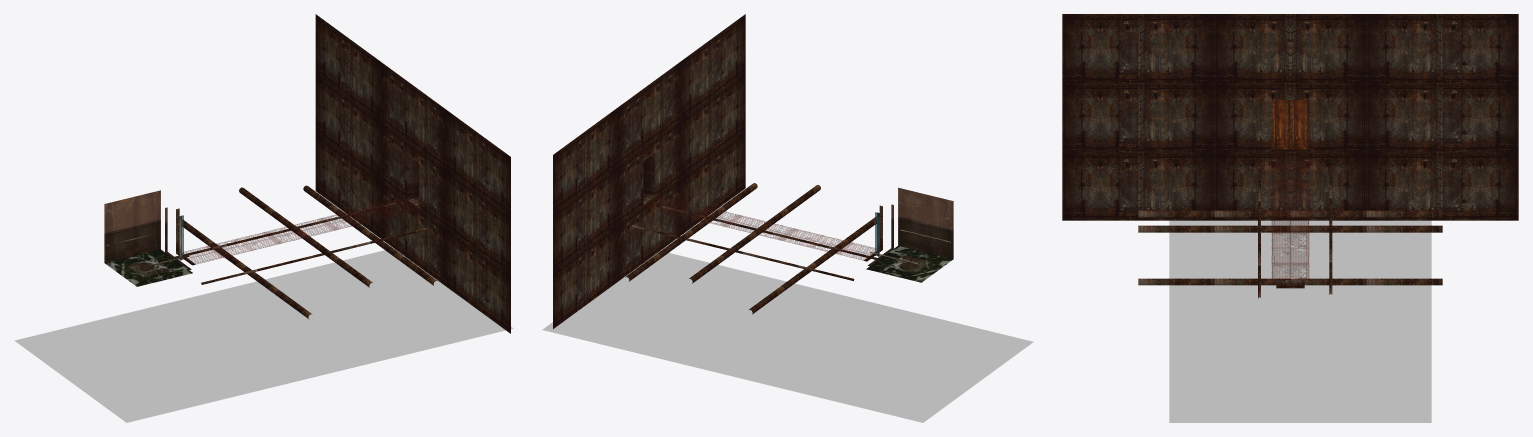
The picture shows the model from 3 angles, left to right: view 1: azimuth 30°, elevation 25°; view 2: azimuth 150°, elevation 25°; view 3: azimuth 270°, elevation 25°; orthographic projection. The views are drawn at different scales.
Parts seen in each view (by area): view 1: DR1R_HID_m0, NL_BACK0_m5, NL_BACK_m6, NL_BACK0_m0, NL_BACK0_m4, NL_BACK0_m3, NL_BACK0_m6, NL_BACK_m0, NL_BACK2_m0, NL_m0, NL_BACK2_m1, NL_BACK_m4 (+5 smaller); view 2: DR1R_HID_m0, NL_BACK0_m5, NL_BACK_m6, NL_BACK2_m1, NL_BACK0_m0, NL_BACK0_m3, NL_BACK0_m4, NL_BACK0_m6, NL_BACK_m0, NL_m0, NL_BACK_m4, NL_BACK_m3 (+4 smaller); view 3: DR1R_HID_m0, NL_BACK0_m1, NL_BACK0_m2, NL_BACK_m1, NL_BACK0_m3, NL_BACK0_m4, NL_BACK_m0, NL_BACK_m5, NL_m0, NL_BACK_m8, NL_BACK_m9, NL_BACK_m7 (+5 smaller).
Boxes of the visible parts, x1,y1,x2,y2 form: DR1R_HID_m0: (14,216,513,422); NL_BACK0_m5: (315,14,510,274); NL_BACK_m6: (315,132,510,333); NL_BACK0_m0: (380,121,445,226); NL_BACK0_m4: (315,73,380,179); NL_BACK0_m3: (380,62,445,167); NL_BACK0_m6: (446,109,510,215); NL_BACK_m0: (380,180,445,285); NL_BACK2_m0: (104,190,160,262); NL_m0: (182,198,420,264); NL_BACK2_m1: (105,207,192,286); NL_BACK_m4: (271,202,396,239); DR1R_HID_m0: (542,251,1033,422); NL_BACK0_m5: (553,72,745,212); NL_BACK_m6: (553,130,745,328); NL_BACK2_m1: (866,187,953,282); NL_BACK0_m0: (617,119,681,223); NL_BACK0_m3: (617,61,681,165); NL_BACK0_m4: (553,166,617,270); NL_BACK0_m6: (681,14,745,118); NL_BACK_m0: (617,177,681,281); NL_m0: (642,195,874,260); NL_BACK_m4: (631,225,756,259); NL_BACK_m3: (657,205,772,257); DR1R_HID_m0: (1169,220,1431,422); NL_BACK0_m1: (1062,83,1518,151); NL_BACK0_m2: (1062,14,1366,151); NL_BACK_m1: (1062,151,1290,285); NL_BACK0_m3: (1366,14,1518,82); NL_BACK0_m4: (1214,14,1366,82); NL_BACK_m0: (1366,151,1518,220); NL_BACK_m5: (1214,151,1366,220); NL_m0: (1271,151,1309,280); NL_BACK_m8: (1138,210,1442,232); NL_BACK_m9: (1366,225,1442,285); NL_BACK_m7: (1138,210,1214,285).
Size of the model in its own units: 21.95 by 11.75 by 19.2.
Materials: 13 (12 with a texture image).
